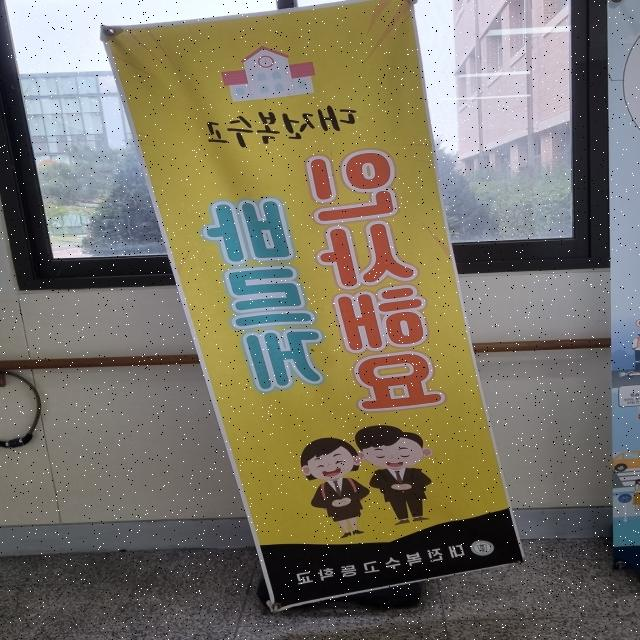logo: (464, 536, 498, 560)
